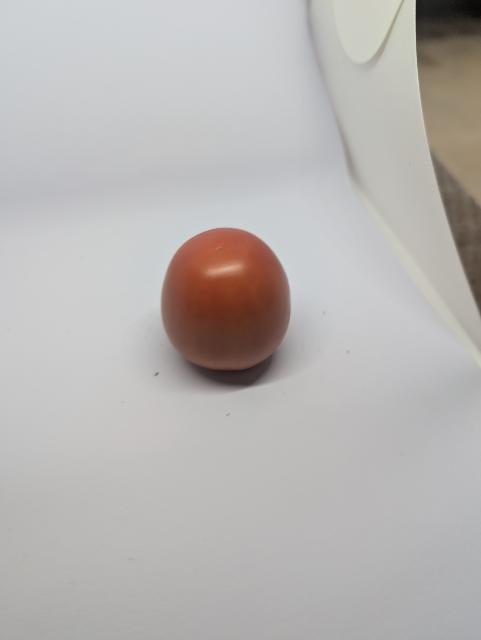red: (154, 221, 304, 389)
